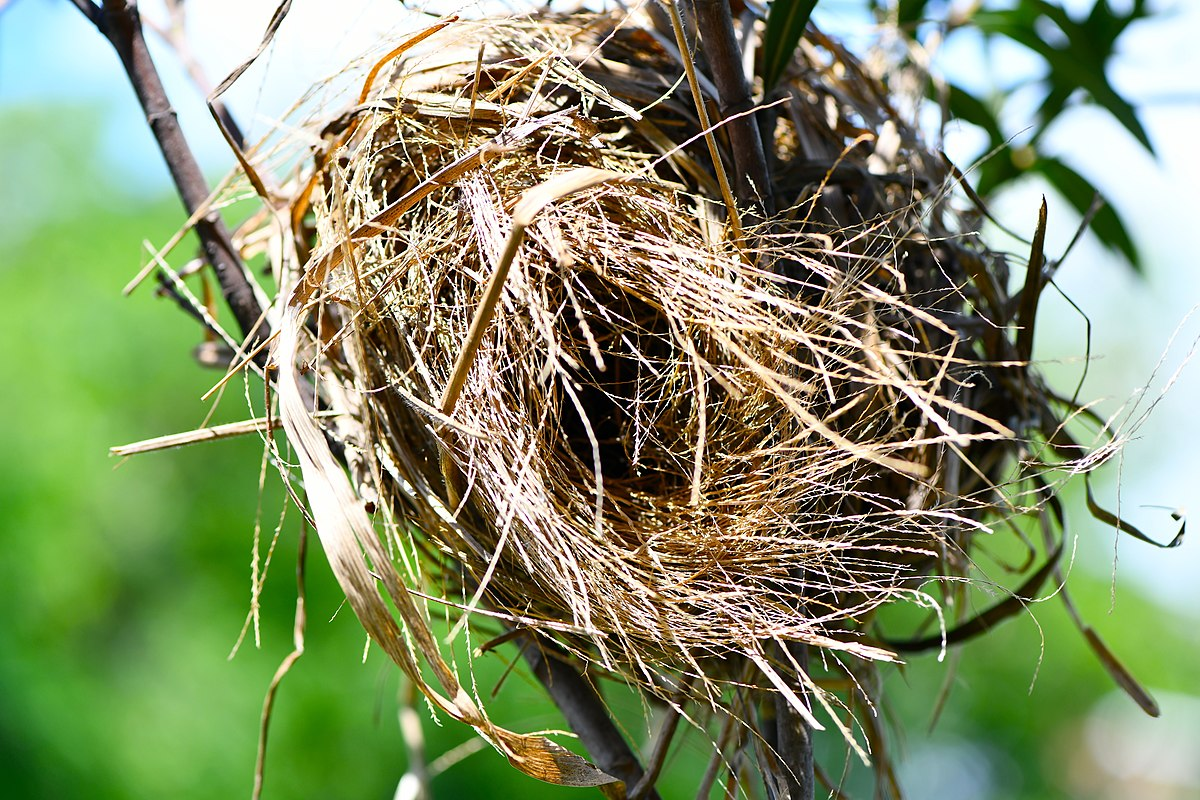bird-nest: (277, 61, 945, 671)
